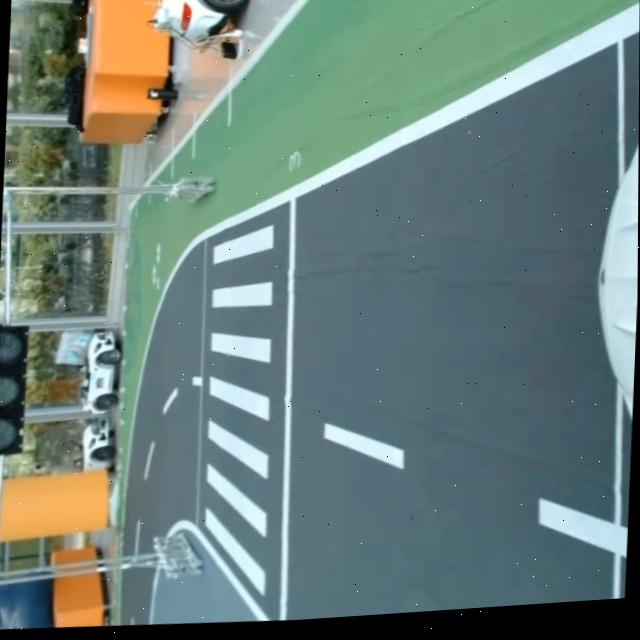traffic-light: (0, 316, 30, 458)
